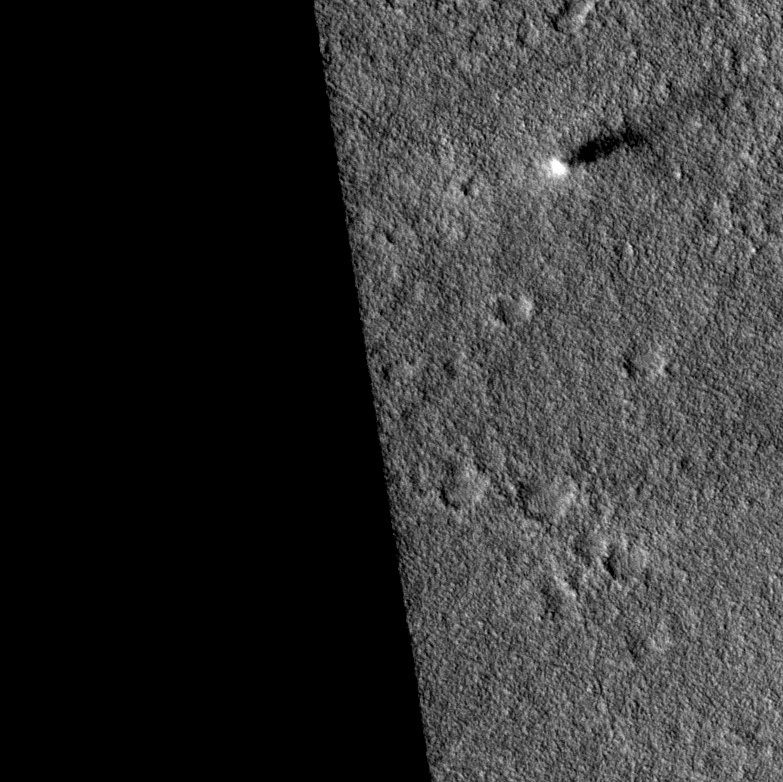dust_devil: (549, 124, 648, 177)
